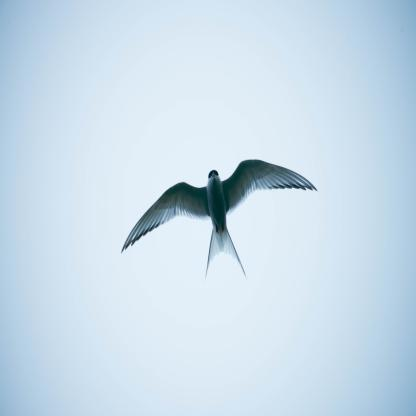bird: (121, 158, 318, 282)
